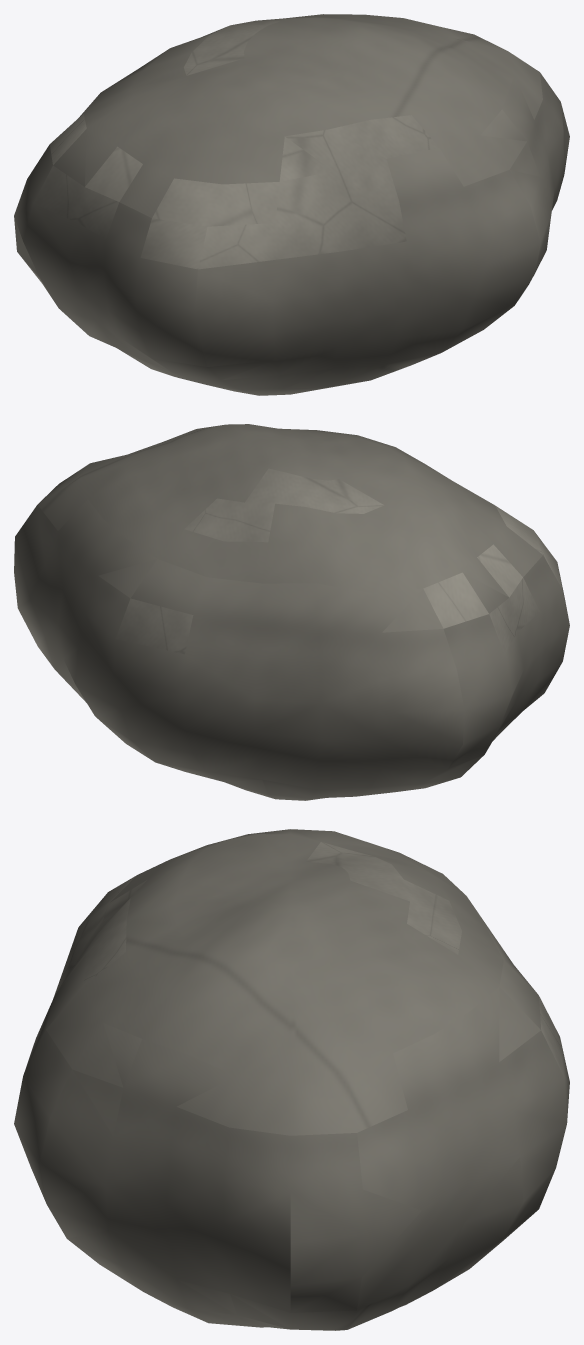
File: Furn_Rock_Rim_B.fbx
The picture shows the model from 3 angles, top to bottom: view 1: azimuth 30°, elevation 25°; view 2: azimuth 150°, elevation 25°; view 3: azimuth 270°, elevation 25°; orthographic projection. The views are drawn at different scales.
Parts seen in each view (by area): view 1: Furn_Rock_Rim_B; view 2: Furn_Rock_Rim_B; view 3: Furn_Rock_Rim_B.
Part boxes in pixels (x1,y1,x2,y2): Furn_Rock_Rim_B: (14, 14, 569, 395); Furn_Rock_Rim_B: (14, 424, 569, 800); Furn_Rock_Rim_B: (14, 829, 569, 1330).
Size of the model in its own units: 2 by 1.2 by 1.5.
